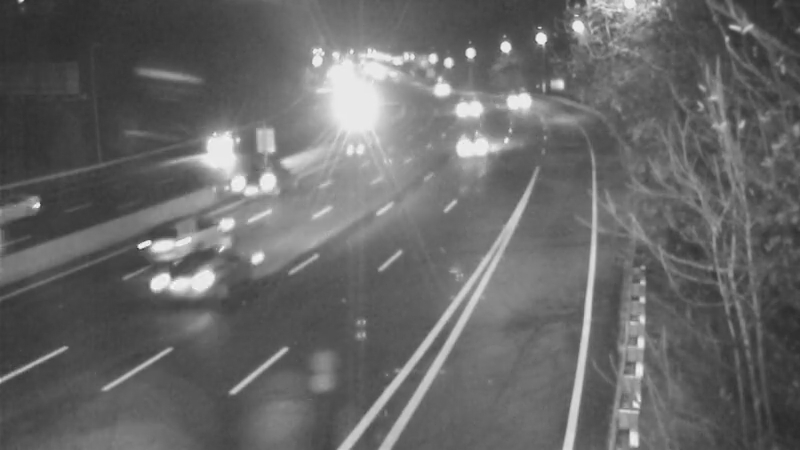vehicle: (222, 140, 302, 220), (121, 193, 201, 273), (136, 248, 216, 328), (1, 164, 68, 244), (410, 66, 460, 116), (490, 76, 540, 126), (434, 86, 484, 136), (446, 109, 496, 159), (191, 118, 241, 168)
